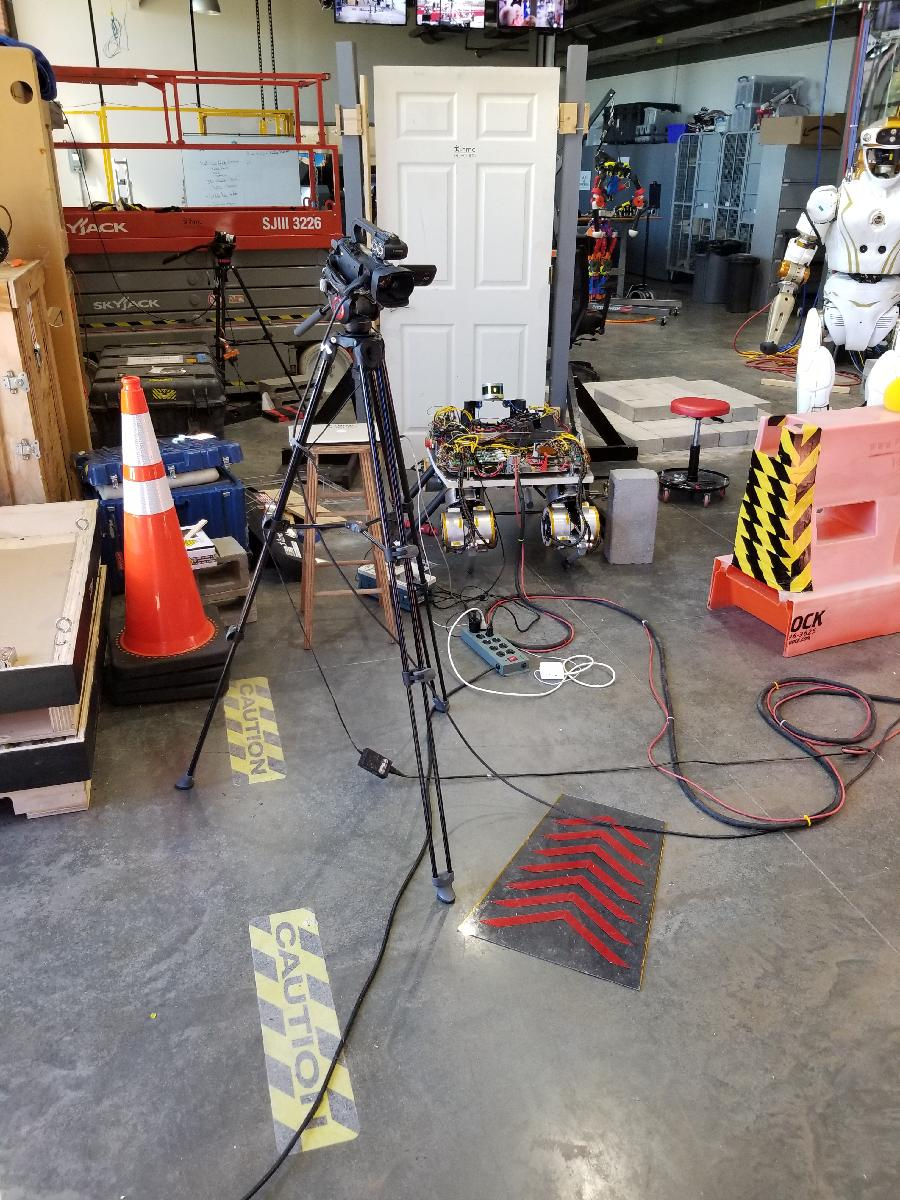door: (371, 61, 562, 472)
